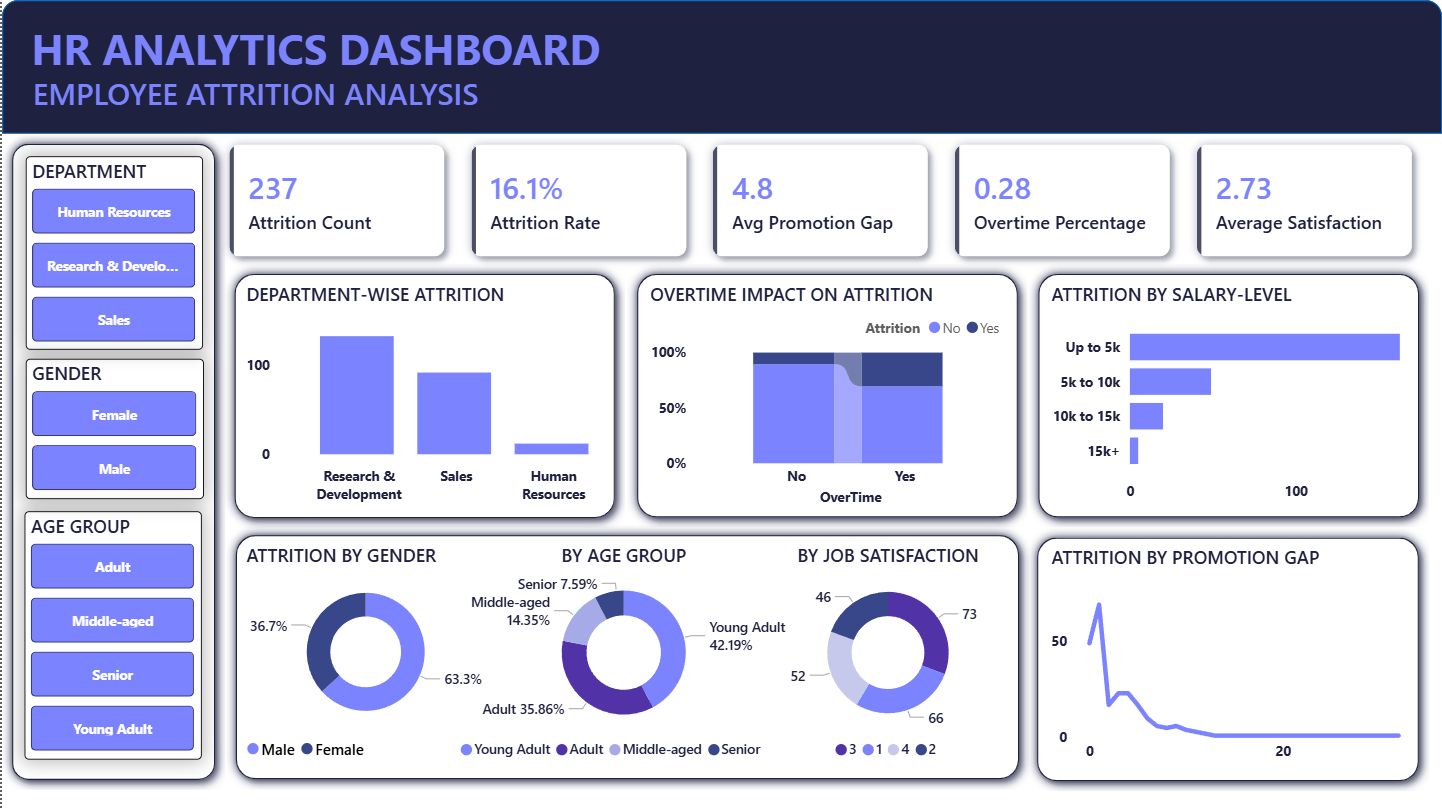

What the dashboard file says about the page in this screenshot:
{"tool":"powerbi","page":{"name":"Employee Attrition","canvas":[1280,720],"ordinal":1},"visuals":[{"type":"shape","box":[0,0,1280,118.9],"z":0},{"type":"textbox","box":[21.1,13.3,543.3,67.8],"z":1000},{"type":"textbox","box":[21.7,60,413.3,45],"z":2000},{"type":"shape","box":[0,118.3,198.3,583.3],"z":3000},{"type":"advancedSlicerVisual","title":"DEPARTMENT","fields":{"Values":["HR_Cleaned.Department"]},"box":[21.1,138.9,157.8,172.2],"z":4000},{"type":"advancedSlicerVisual","title":"GENDER","fields":{"Values":["HR_Cleaned.Gender"]},"box":[20.8,319.2,158.3,125],"z":5000},{"type":"advancedSlicerVisual","title":"AGE GROUP","fields":{"Values":["HR_Cleaned.AgeGroup"]},"box":[20,454.4,157.8,221.1],"z":6000},{"type":"cardVisual","fields":{"Data":["HR_Cleaned.AttritionCount","HR_Cleaned.AttritionRate","HR_Cleaned.Average Promotion Gap","HR_Cleaned.Overtime Percentage","HR_Cleaned.AverageSatisfaction"]},"box":[178.3,105,1101.7,145],"z":7000},{"type":"shape","box":[198,234,356,235],"z":8000},{"type":"shape","box":[198.3,466.7,714.2,235],"z":9000},{"type":"shape","box":[555.5,234.5,356.4,234.5],"z":10000},{"type":"shape","box":[911.8,234.5,356.4,234.5],"z":11000},{"type":"shape","box":[910.9,469.1,357.3,234.5],"z":12000},{"type":"columnChart","title":"DEPARTMENT-WISE ATTRITION","fields":{"Category":["HR_Cleaned.Department"],"Y":["HR_Cleaned.AttritionCount"]},"box":[212.5,250,352.5,205],"z":13000},{"type":"hundredPercentStackedColumnChart","title":"OVERTIME IMPACT ON ATTRITION","fields":{"Category":["HR_Cleaned.OverTime"],"Series":["HR_Cleaned.Attrition"],"Y":["HR_Cleaned.TotalEmployee"]},"box":[571.2,250,325,205],"z":14000},{"type":"lineChart","title":"ATTRITION BY PROMOTION GAP","fields":{"Category":["HR_Cleaned.PromotionGap"],"Y":["HR_Cleaned.AttritionCount"]},"box":[927.5,483.8,328.8,202.5],"z":15000},{"type":"donutChart","title":"ATTRITION BY GENDER","fields":{"Y":["HR_Cleaned.AttritionCount"],"Category":["HR_Cleaned.Gender"]},"box":[212.5,482.5,222.5,202.5],"z":16000},{"type":"donutChart","title":"BY AGE GROUP","fields":{"Y":["HR_Cleaned.AttritionCount"],"Category":["HR_Cleaned.AgeGroup"]},"box":[402.5,482.5,301.2,202.5],"z":17000},{"type":"donutChart","title":"BY JOB SATISFACTION","fields":{"Y":["HR_Cleaned.AttritionCount"],"Category":["HR_Cleaned.JobSatisfaction"]},"box":[663.8,482.5,248.8,202.5],"z":18000},{"type":"barChart","title":"ATTRITION BY SALARY-LEVEL","fields":{"Category":["HR_Cleaned.SalarySlab"],"Y":["HR_Cleaned.AttritionCount"]},"box":[927.5,250,341.2,205],"z":19000}]}

Visuals, with their boxes in screenshot pixels (x1, y1, x2, y2), scaled from the page's 1280x720 canvas onto the 1442x808 screenshot:
shape: region(0, 0, 1441, 133)
textbox: region(24, 15, 636, 91)
textbox: region(24, 67, 490, 118)
shape: region(0, 133, 223, 787)
"DEPARTMENT" advancedSlicerVisual: region(24, 156, 202, 349)
"GENDER" advancedSlicerVisual: region(23, 358, 202, 498)
"AGE GROUP" advancedSlicerVisual: region(23, 510, 200, 758)
cardVisual - HR_Cleaned.AttritionCount x HR_Cleaned.AttritionRate: region(201, 118, 1441, 281)
shape: region(223, 263, 624, 526)
shape: region(223, 524, 1028, 787)
shape: region(626, 263, 1027, 526)
shape: region(1027, 263, 1429, 526)
shape: region(1026, 526, 1429, 790)
"DEPARTMENT-WISE ATTRITION" columnChart: region(239, 281, 637, 511)
"OVERTIME IMPACT ON ATTRITION" hundredPercentStackedColumnChart: region(643, 281, 1010, 511)
"ATTRITION BY PROMOTION GAP" lineChart: region(1045, 543, 1415, 770)
"ATTRITION BY GENDER" donutChart: region(239, 541, 490, 769)
"BY AGE GROUP" donutChart: region(453, 541, 793, 769)
"BY JOB SATISFACTION" donutChart: region(748, 541, 1028, 769)
"ATTRITION BY SALARY-LEVEL" barChart: region(1045, 281, 1429, 511)
